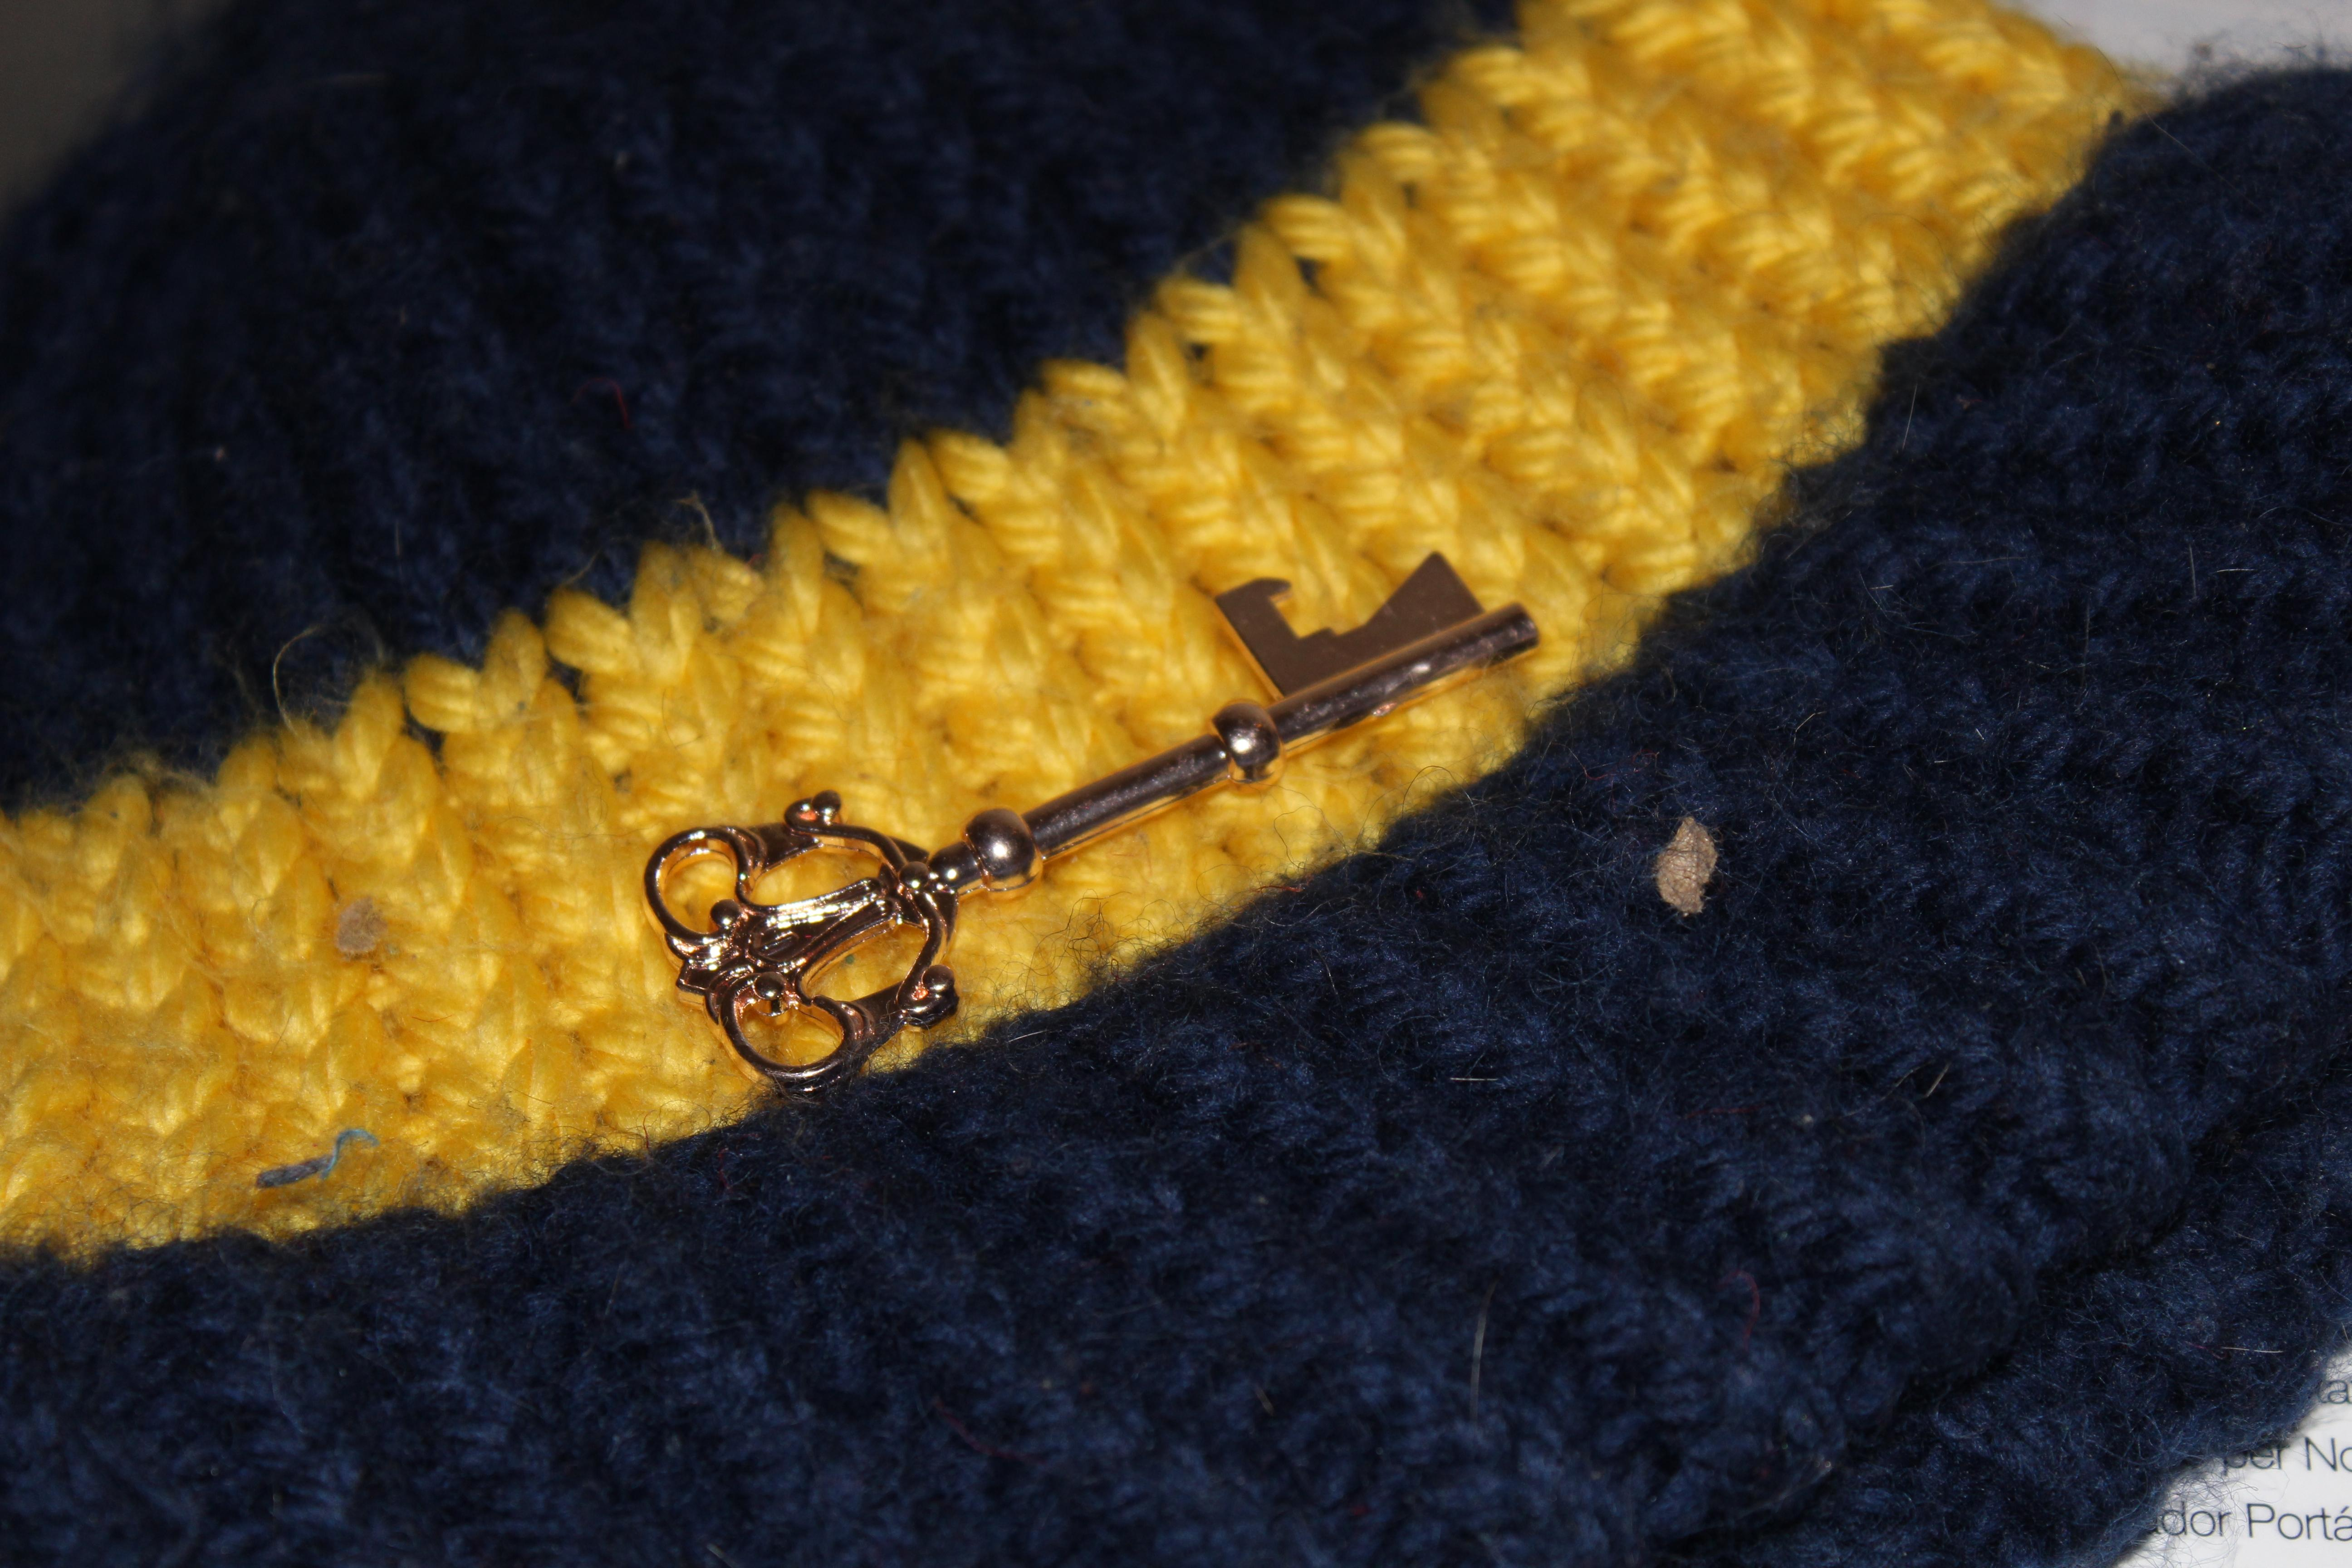metalKey: (609, 509, 1584, 1130)
